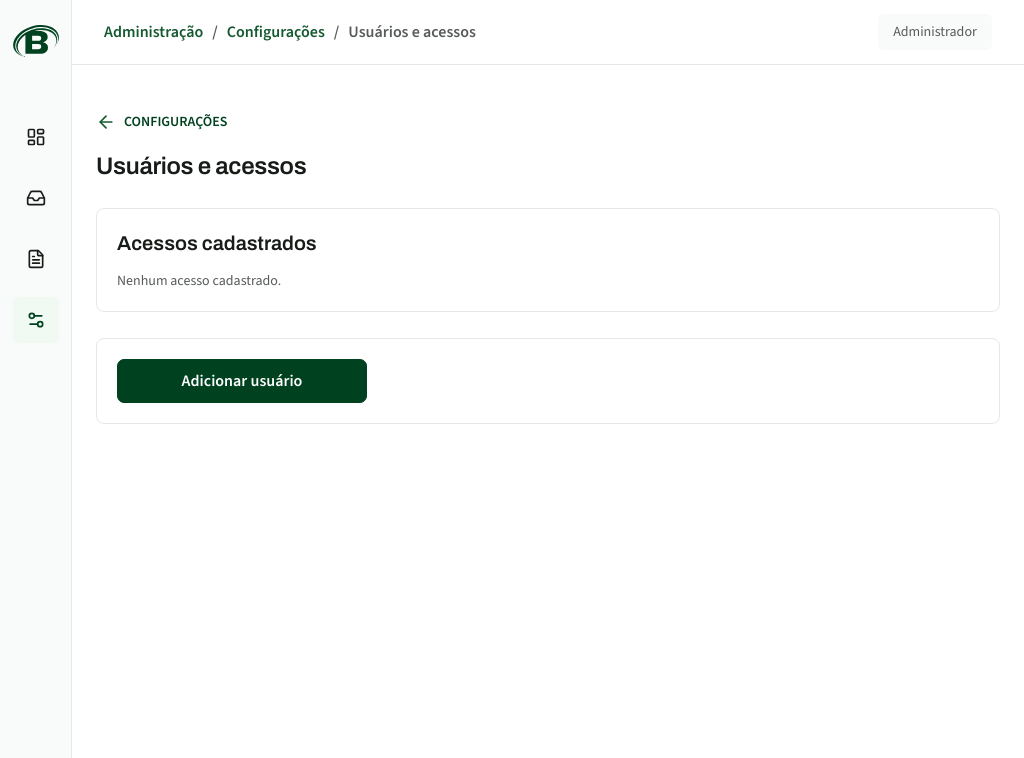
ADM-12 — integração de criação de usuários › impede requisições simultâneas
Expected: the text "Nenhum acesso cadastrado." is shown, [117, 271, 281, 291]
Click the button "Adicionar usuário": [242, 381] box [117, 359, 367, 403]
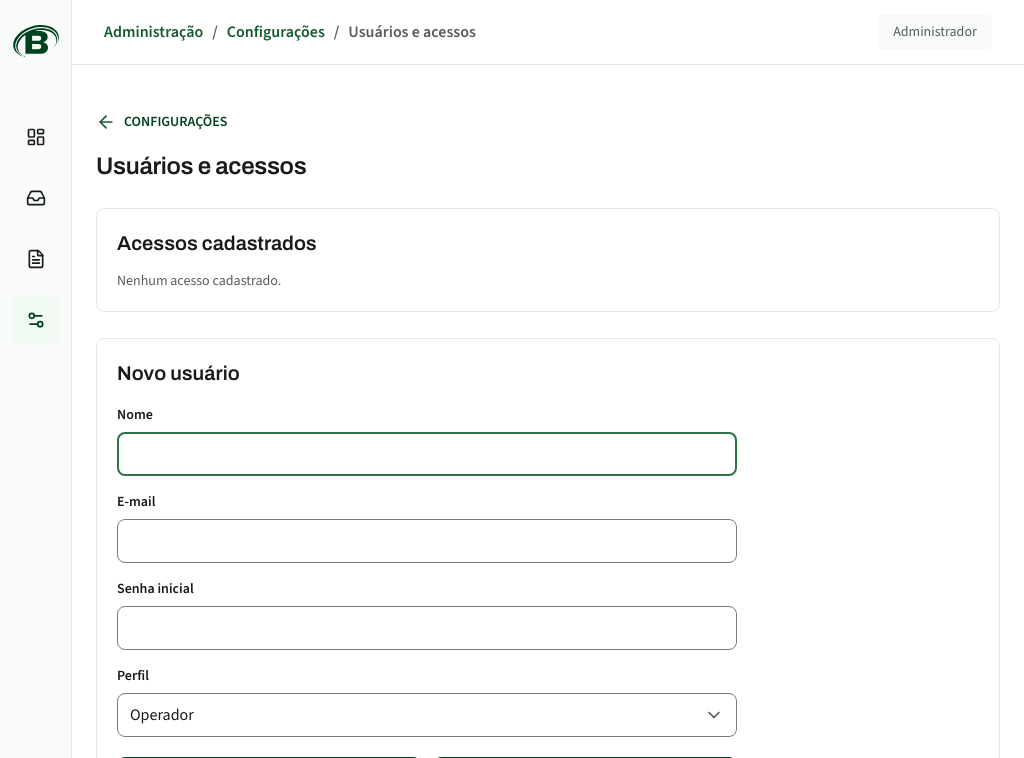
In the field labelled "Nome": [427, 454] box [117, 432, 737, 476], type "Usuário de Exemplo"
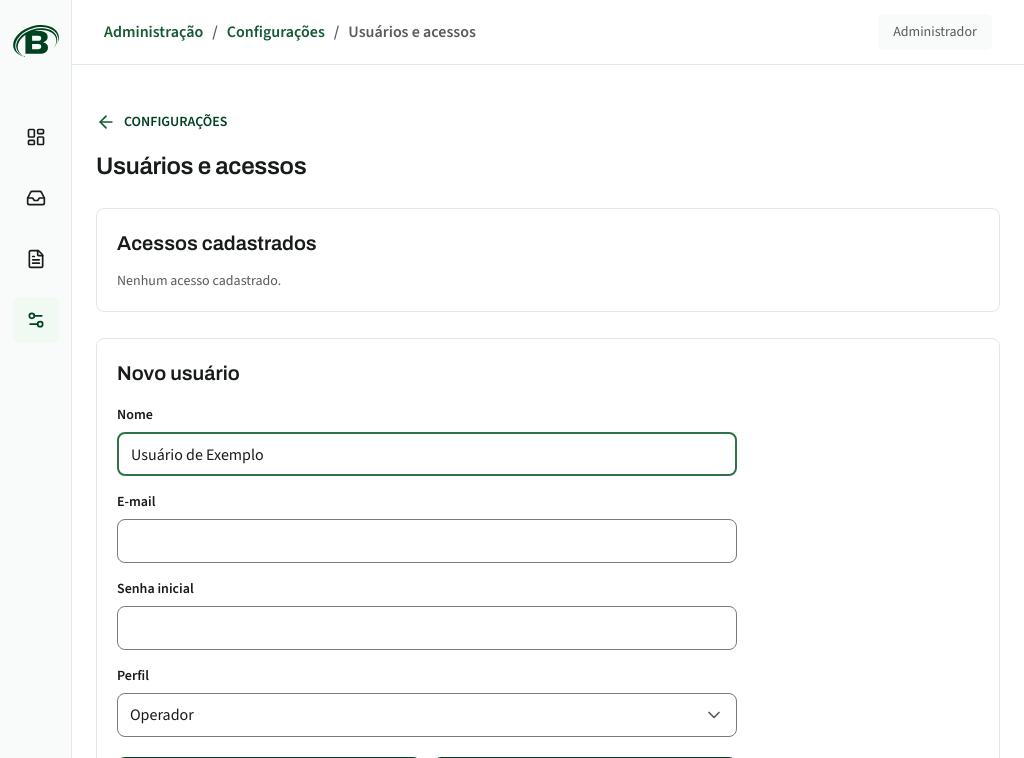
In the field labelled "E-mail": [427, 541] box [117, 519, 737, 563], type "novo@example.test"
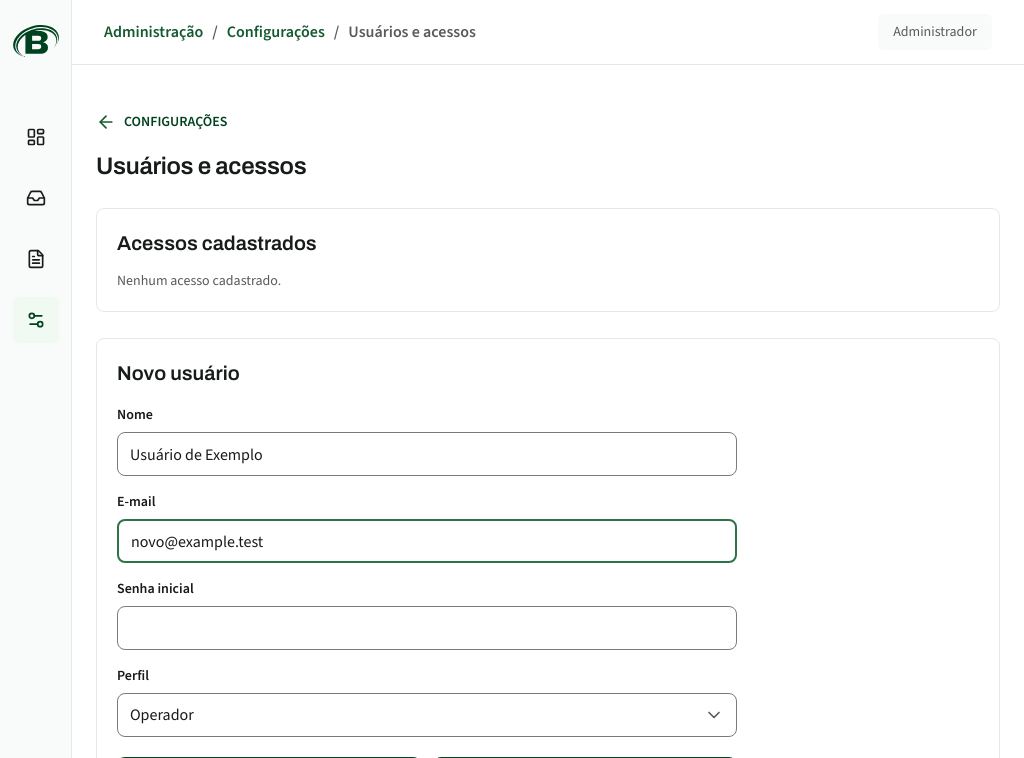
In the password field labelled "Senha inicial": [427, 628] box [117, 606, 737, 650], type "SenhaExemplo!2026"
(page scrolled)
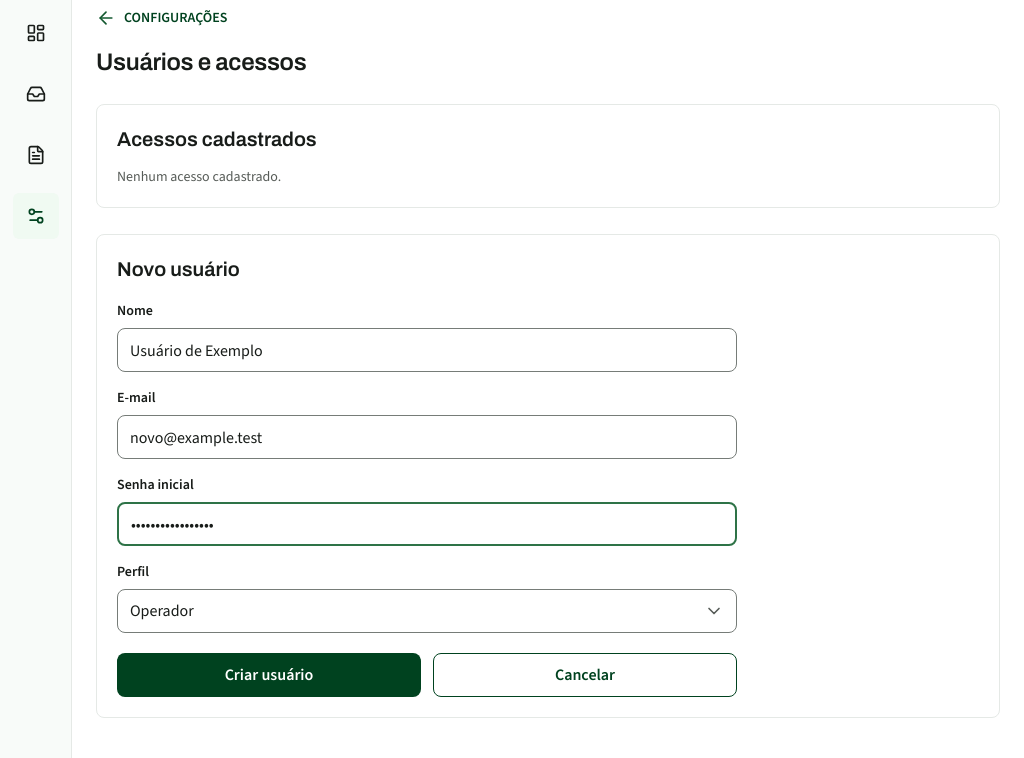
Click the button "Criar usuário": [269, 675] box [117, 653, 421, 697]
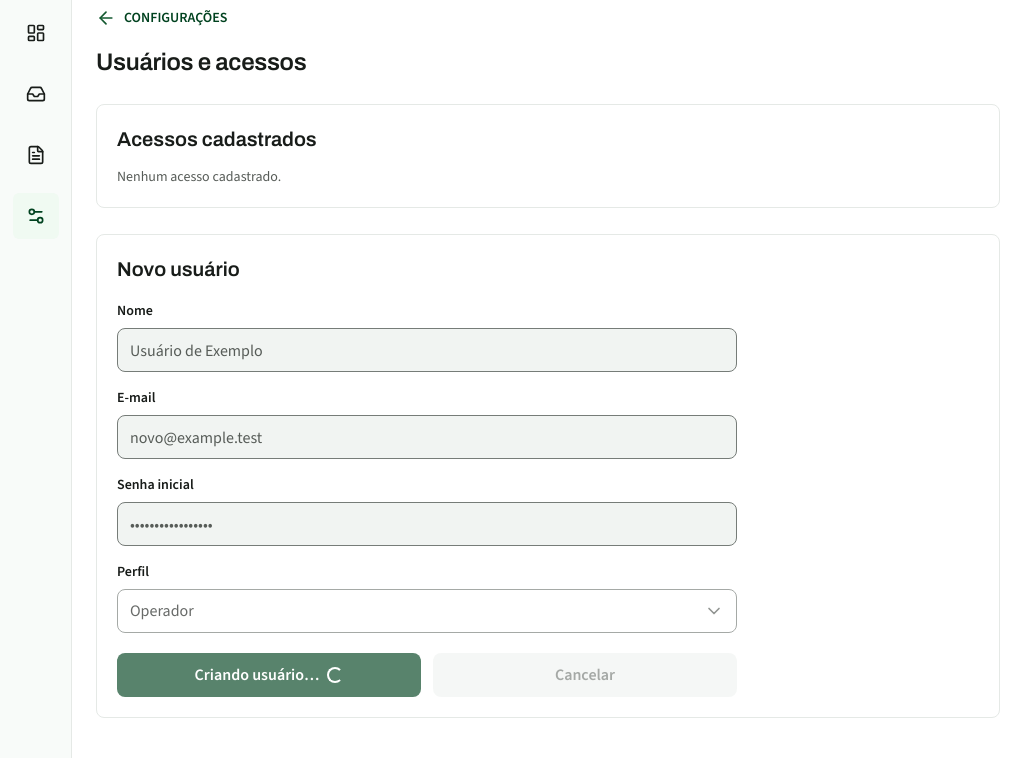
Now the button named "Criar usuário" is disabled
Click the button named "Criar usuário": [269, 675] box [117, 653, 421, 697]
(page scrolled)
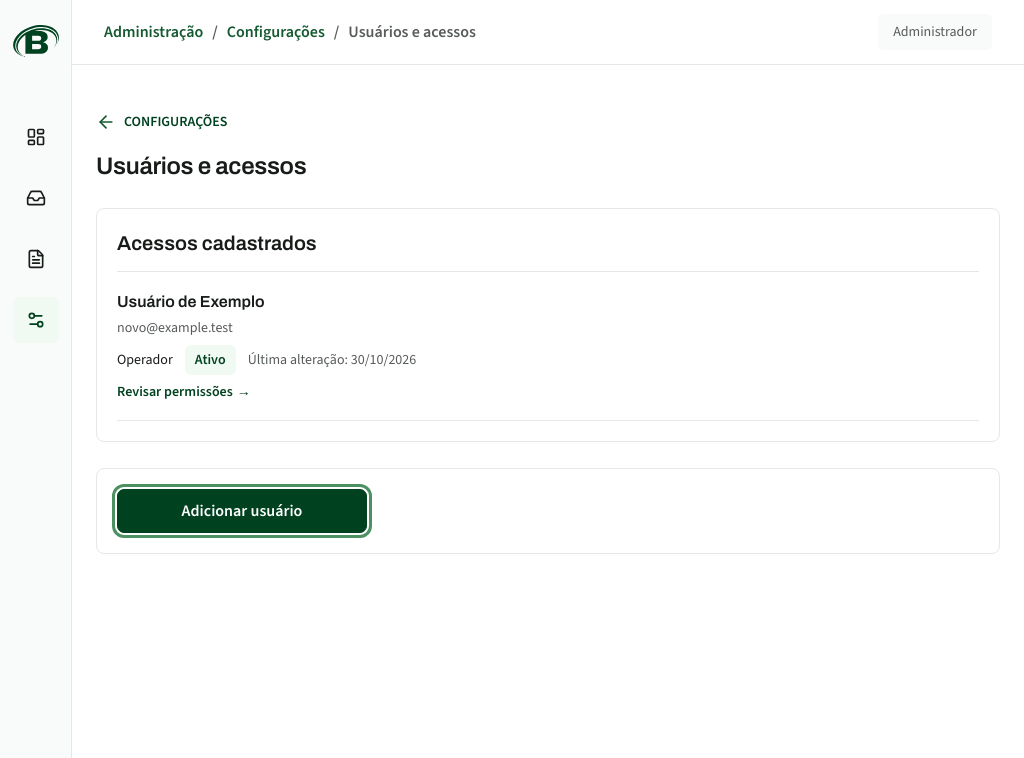
Now the heading "Usuário de Exemplo" is shown, box [117, 293, 265, 310]
